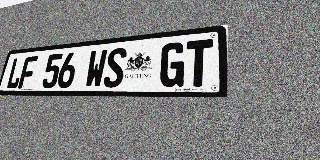5: (41, 53, 63, 88)
6: (56, 52, 79, 88)
F: (18, 56, 38, 89)
G: (158, 41, 186, 87)
L: (5, 57, 25, 89)
S: (103, 47, 127, 88)
T: (184, 39, 213, 87)
W: (84, 49, 108, 88)
